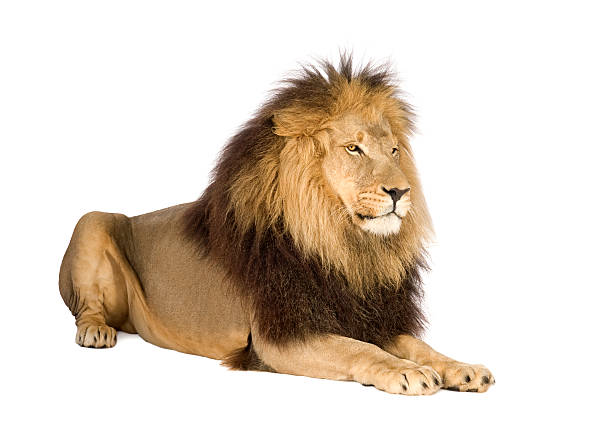lion: (166, 30, 461, 374)
